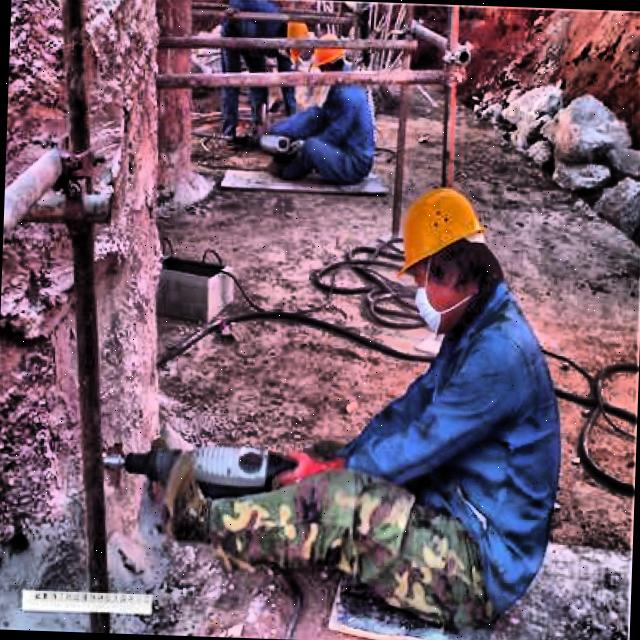helmet: (382, 172, 501, 321), (308, 35, 352, 87)
